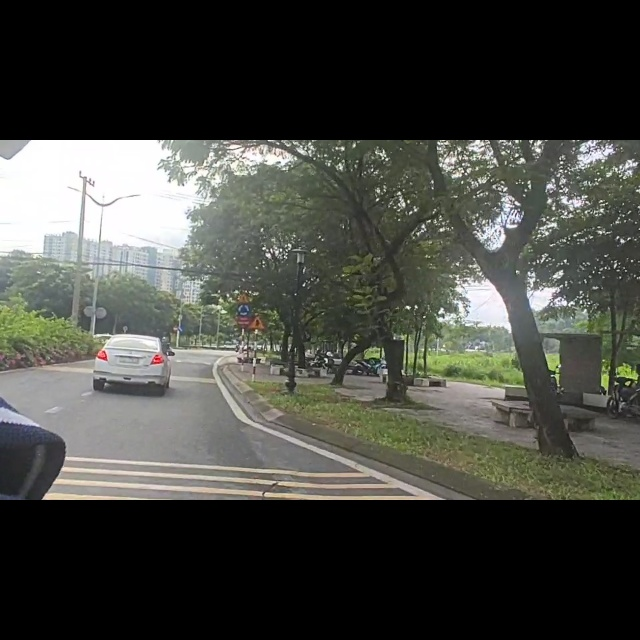bien_hieu_lenh: (247, 312, 266, 339), (237, 290, 252, 313), (237, 270, 251, 290), (178, 329, 185, 343), (173, 329, 178, 340)
